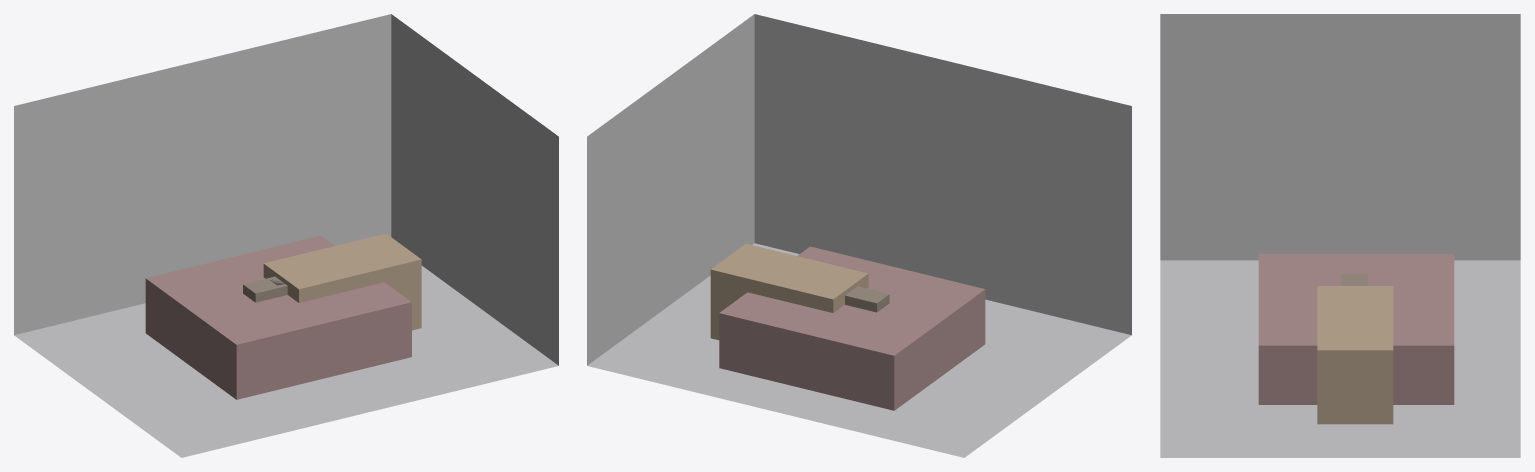
File: current_layout.glb
3 views of the same model, side by side, from view 1: azimuth 30°, elevation 25°; view 2: azimuth 150°, elevation 25°; view 3: azimuth 270°, elevation 25° (orthographic). The views are drawn at different scales.
Parts seen in each view (by area): view 1: room, bed, desk, suitcase; view 2: room, bed, desk, suitcase; view 3: room, bed, desk.
Part boxes in pixels (<box>): room: <box>14,14,558,457</box>; bed: <box>145,235,411,399</box>; desk: <box>263,233,421,330</box>; suitcase: <box>243,276,287,302</box>; room: <box>587,14,1131,457</box>; bed: <box>719,246,985,410</box>; desk: <box>710,243,868,340</box>; suitcase: <box>845,286,889,312</box>; room: <box>1160,14,1520,457</box>; bed: <box>1258,254,1454,404</box>; desk: <box>1317,286,1393,424</box>.
Bounding box in the file's own units: 4.31 × 2.5 × 3.31.
